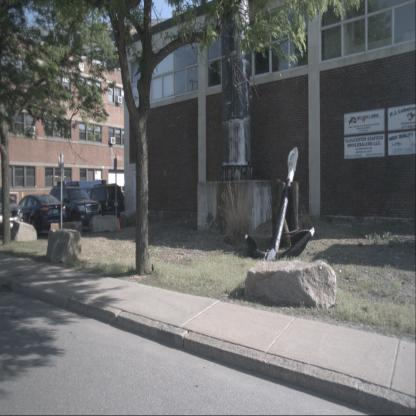cone: (117, 217, 121, 231)
